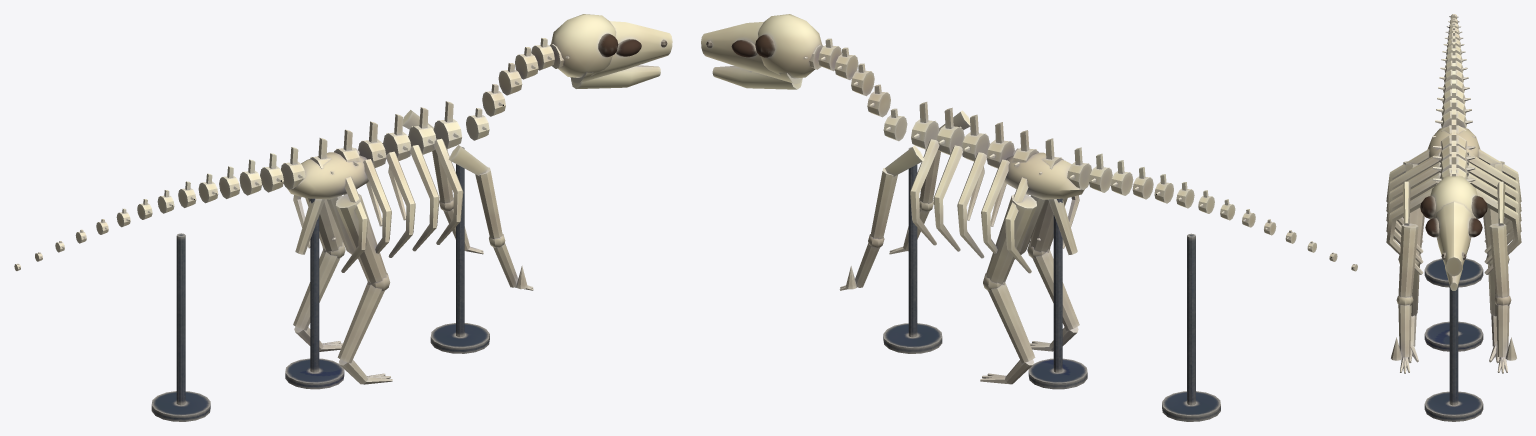
Rendered from skeleton_iguanodon.glb.
3 renders of one model, left to right at view 1: azimuth 30°, elevation 25°; view 2: azimuth 150°, elevation 25°; view 3: azimuth 270°, elevation 25°, orthographic.
Parts seen in each view (by area): view 1: Legs, Mount, Ribs, Skull, Tail, Back, Arms, Neck, Jaw; view 2: Legs, Mount, Ribs, Skull, Tail, Back, Arms, Neck, Jaw; view 3: Ribs, Arms, Mount, Skull, Legs, Tail, Back, Jaw.
Boxes of the visible parts, x1,y1,x2,y2 form: Legs: (287, 152, 392, 384); Mount: (151, 147, 489, 421); Ribs: (293, 136, 463, 272); Skull: (551, 14, 672, 82); Tail: (14, 147, 305, 270); Back: (309, 101, 461, 174); Arms: (402, 110, 533, 290); Neck: (466, 37, 569, 140); Jaw: (571, 65, 660, 88); Legs: (980, 152, 1084, 384); Mount: (883, 147, 1220, 421); Ribs: (910, 137, 1079, 273); Skull: (701, 14, 821, 83); Tail: (1067, 147, 1357, 271); Back: (911, 102, 1063, 174); Arms: (839, 110, 970, 290); Neck: (804, 38, 907, 141); Jaw: (712, 66, 802, 89); Ribs: (1386, 149, 1521, 274); Arms: (1391, 181, 1516, 373); Mount: (1424, 258, 1483, 421); Skull: (1420, 176, 1487, 276); Legs: (1398, 126, 1509, 363); Tail: (1435, 14, 1472, 127); Back: (1432, 109, 1475, 181); Jaw: (1445, 266, 1462, 290).
Size of the model in its own units: 5.06 by 2.19 by 0.9218.
Materials: 1 (1 with a texture image).
